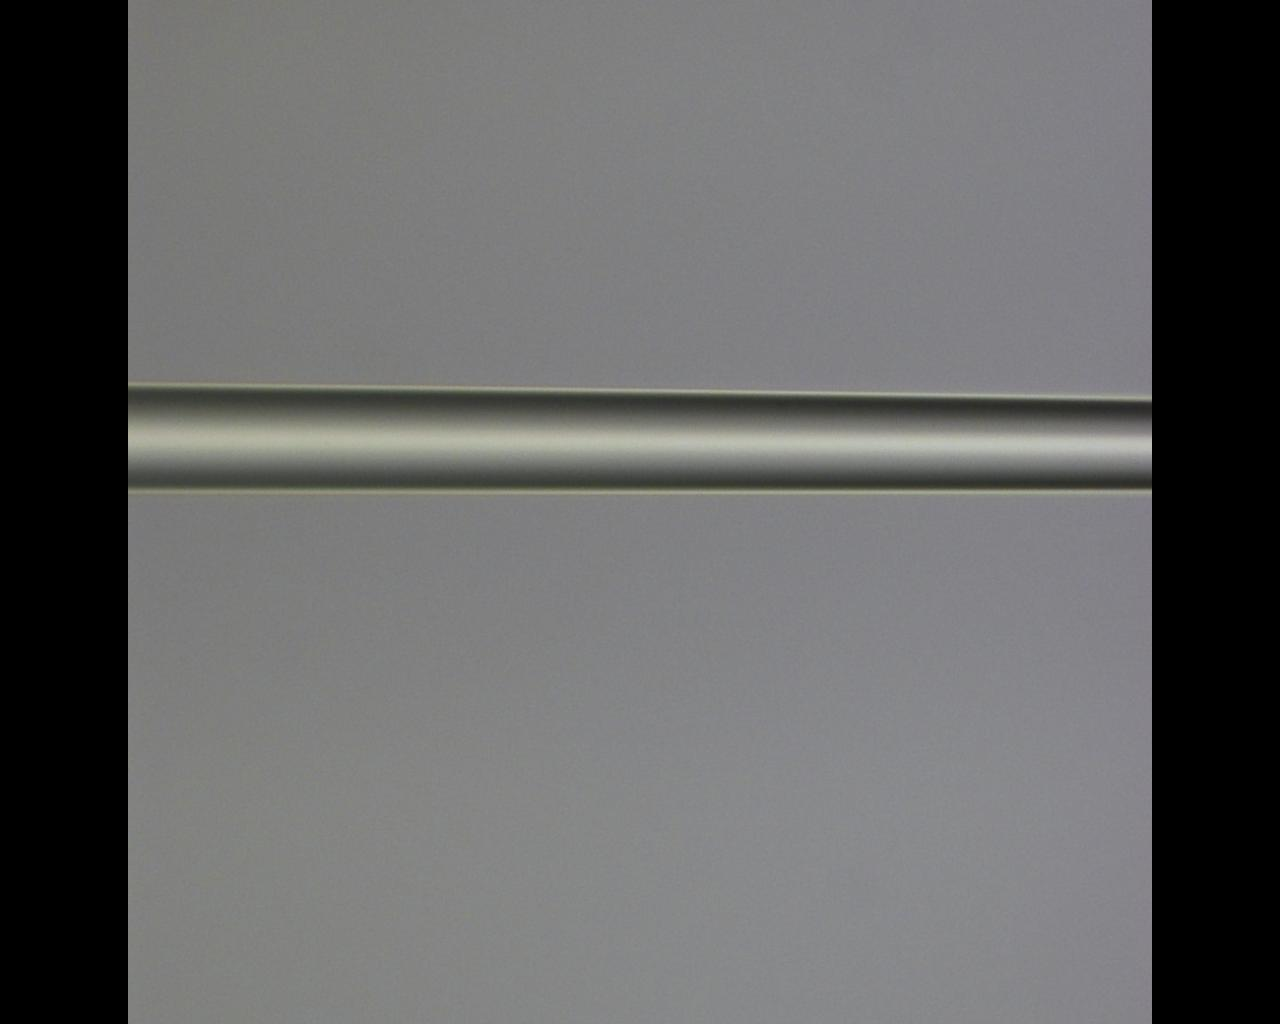fiber: (512, 88, 1280, 491), (15, 491, 512, 1019), (512, 491, 1280, 810)
